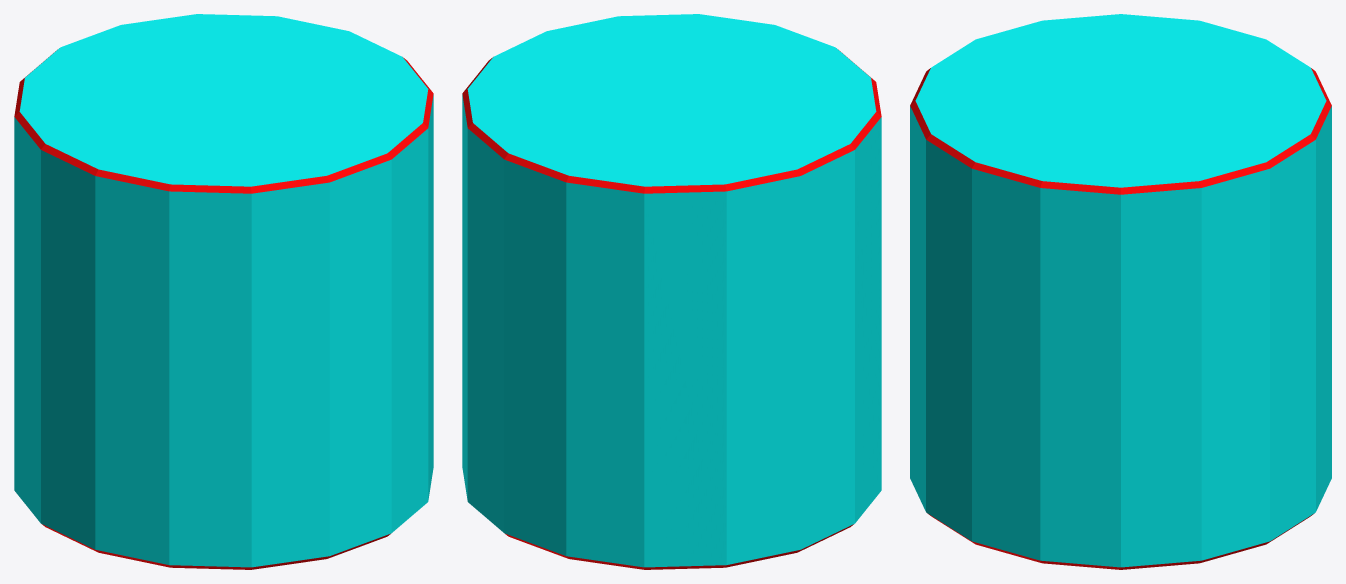
The picture shows the model from 3 angles, left to right: view 1: azimuth 30°, elevation 25°; view 2: azimuth 150°, elevation 25°; view 3: azimuth 270°, elevation 25°; orthographic projection.
Visible parts, largest first — view 1: L13_Cylinder; view 2: L13_Cylinder; view 3: L13_Cylinder.
Boxes of the visible parts, x1,y1,x2,y2 form: L13_Cylinder: (14,14,433,569); L13_Cylinder: (462,14,881,569); L13_Cylinder: (910,14,1331,569).
Bounding box in the file's own units: 400 × 400 × 400.
